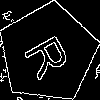R: (23, 28, 79, 82)
